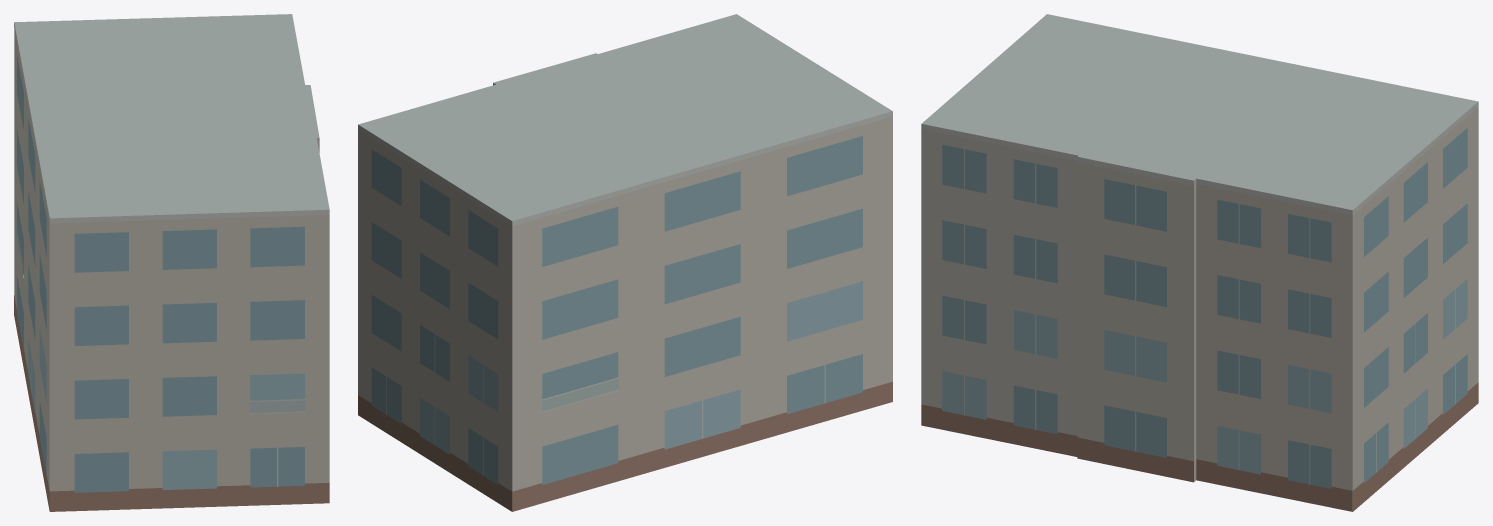
Rendered from survey-upis-32902640.glb.
3 views of the same model, side by side, from view 1: azimuth 30°, elevation 25°; view 2: azimuth 150°, elevation 25°; view 3: azimuth 270°, elevation 25° (orthographic). The views are drawn at different scales.
Parts seen in each view (by area): view 1: survey-upis-32902640.tmp; view 2: survey-upis-32902640.tmp; view 3: survey-upis-32902640.tmp.
Boxes of the visible parts, left/top/right/bottom form: survey-upis-32902640.tmp: left=14, top=14, right=329, bottom=511; survey-upis-32902640.tmp: left=358, top=14, right=892, bottom=511; survey-upis-32902640.tmp: left=921, top=14, right=1478, bottom=511.
Size of the model in its own units: 19.54 by 14 by 23.44.
